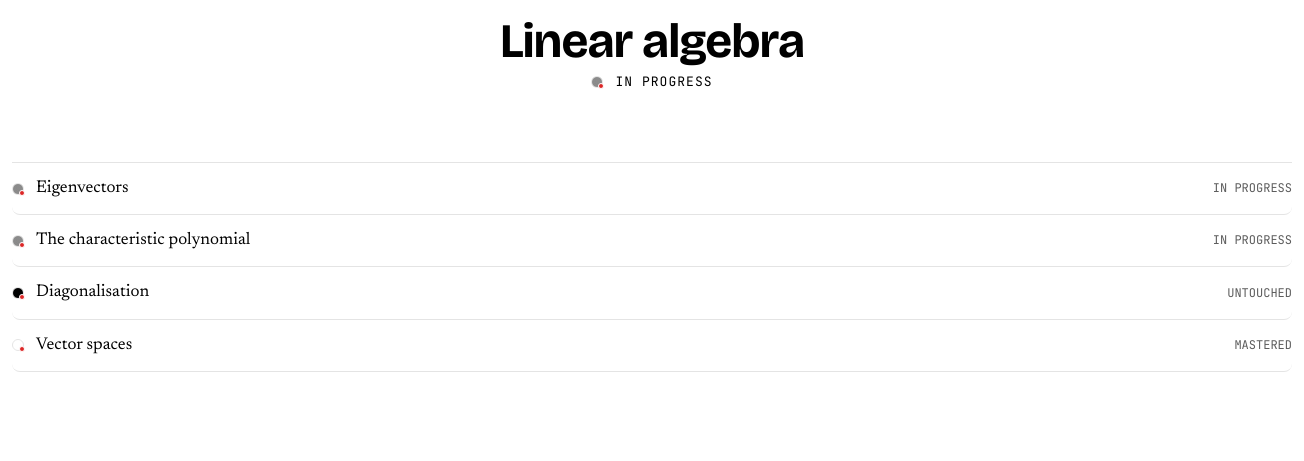
Test case: ConceptMastery › lets the learner step back out to the subject
This screenshot has width=1304, height=461.
Click the button with aria-label "Vector spaces, mastered": (84, 345) [12,320,1292,372]
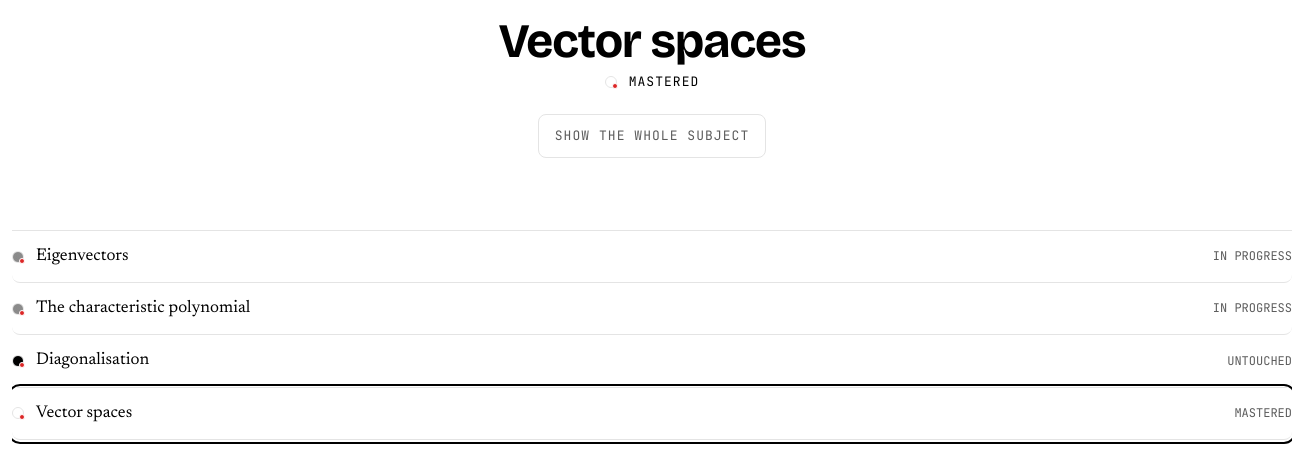
Click the button "Show the whole subject": (652, 136) [538,114,766,158]
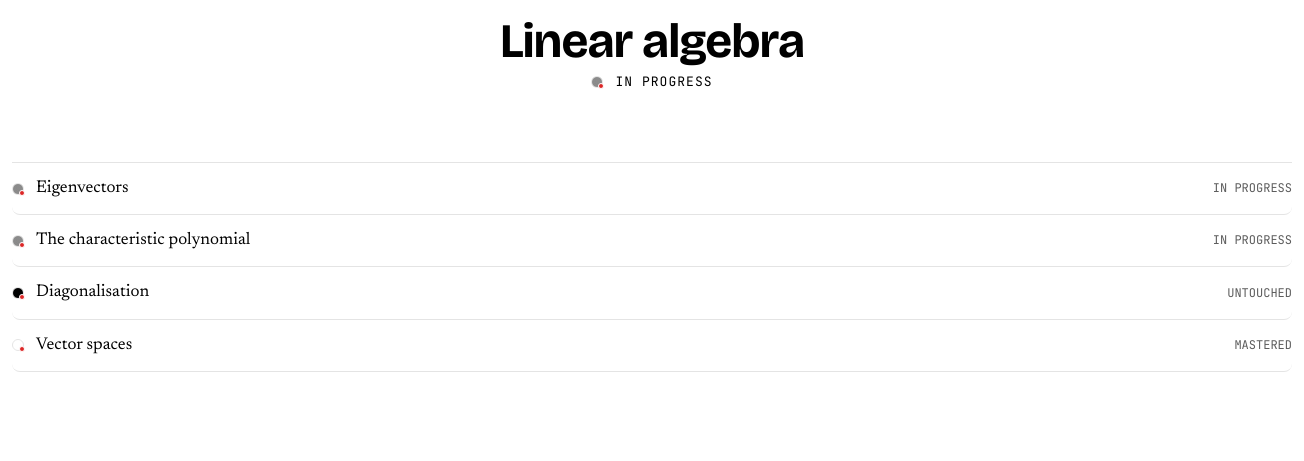
Now the heading "Linear algebra" is shown, box [500,16,804,66]
